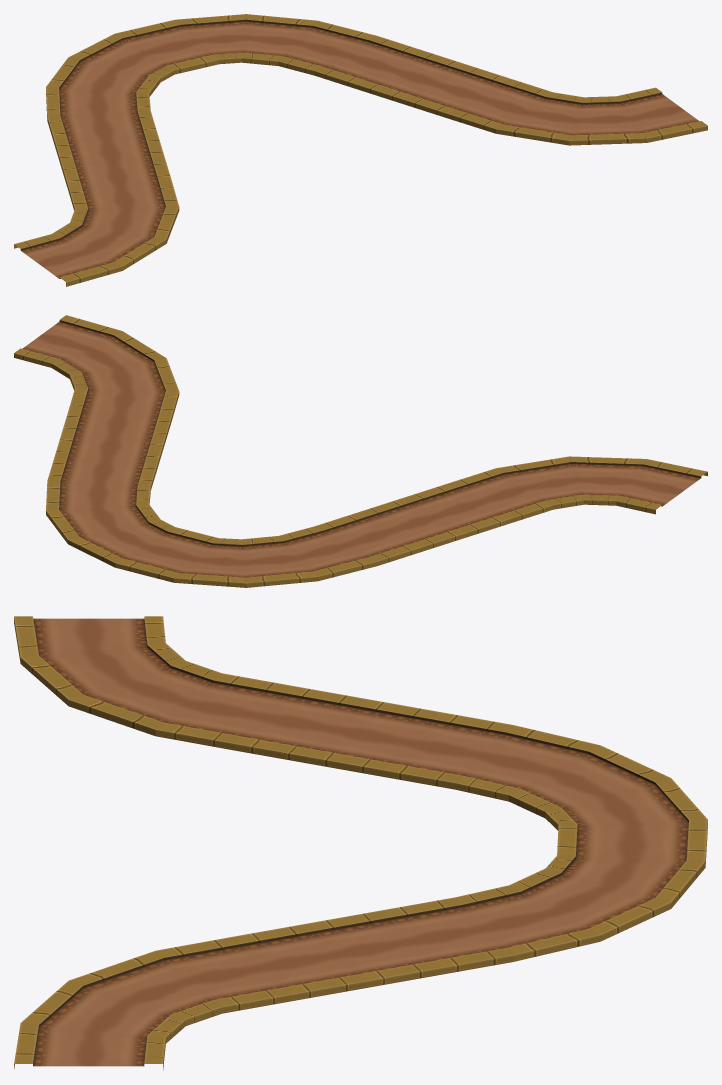
The model's file is RoadPiece_13.FBX.
The picture shows the model from 3 angles, top to bottom: view 1: azimuth 30°, elevation 25°; view 2: azimuth 150°, elevation 25°; view 3: azimuth 270°, elevation 25°; orthographic projection. The views are drawn at different scales.
Parts seen in each view (by area): view 1: RoadPiece_13; view 2: RoadPiece_13; view 3: RoadPiece_13.
Boxes of the visible parts, x1,y1,x2,y2 form: RoadPiece_13: (14,14,707,286); RoadPiece_13: (14,315,707,587); RoadPiece_13: (14,616,707,1070).
Bounding box in the file's own units: 11.59 × 0.0795 × 7.59.
